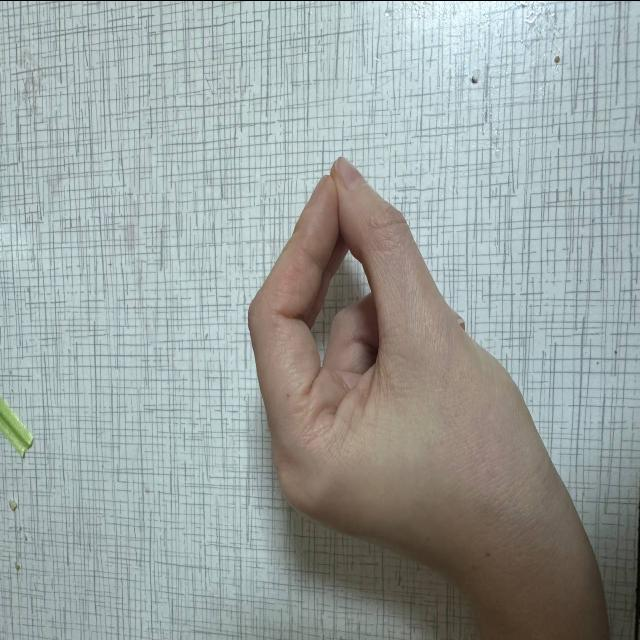ch: (258, 136, 520, 526)
